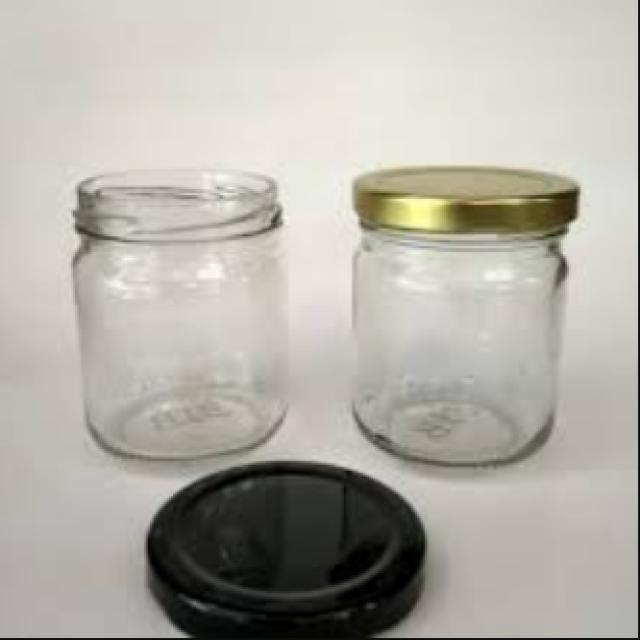ToplesKaca: (35, 158, 310, 471), (346, 162, 580, 468)
